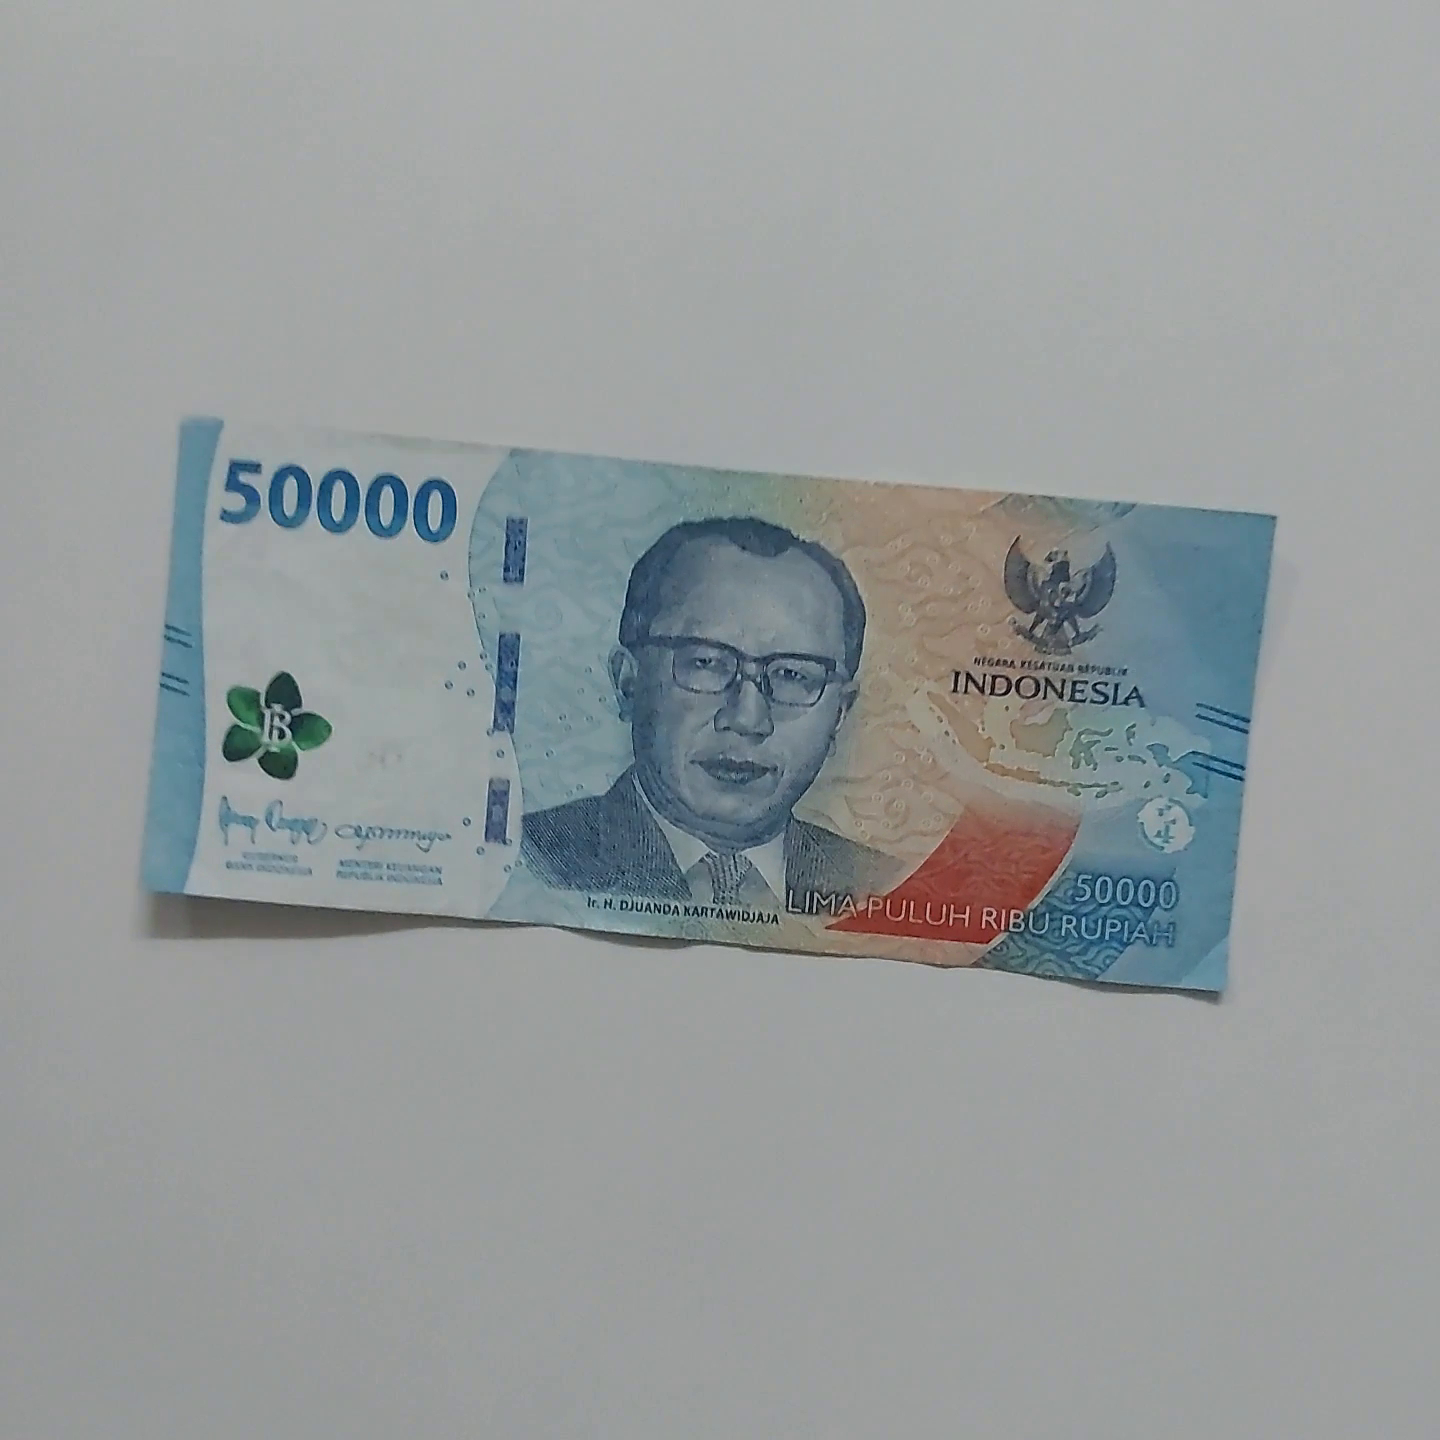50k: (165, 406, 1283, 993)
